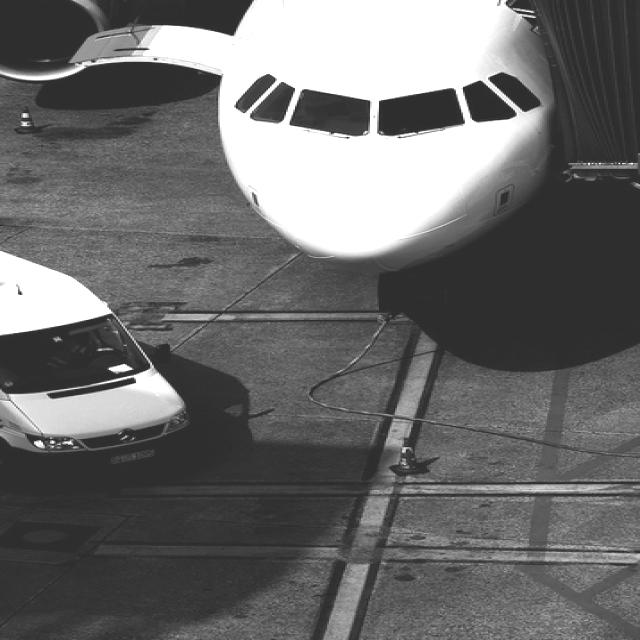Vehicle: (0, 214, 200, 471)
